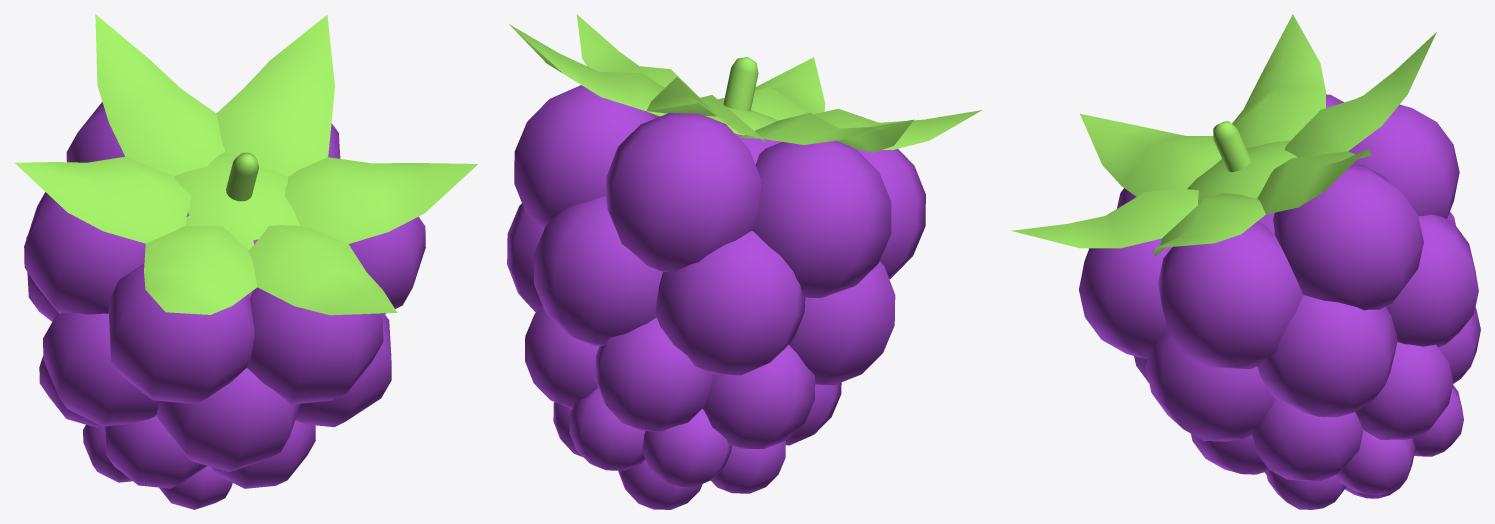
3 views of the same model, side by side, from view 1: azimuth 30°, elevation 25°; view 2: azimuth 150°, elevation 25°; view 3: azimuth 270°, elevation 25° (orthographic). The views are drawn at different scales.
Parts seen in each view (by area): view 1: Object_46; view 2: Object_46; view 3: Object_46.
Boxes of the visible parts, x1,y1,x2,y2 form: Object_46: (15, 14, 477, 509); Object_46: (507, 14, 982, 509); Object_46: (1011, 14, 1480, 509).
Size of the model in its own units: 100 by 109 by 105.
